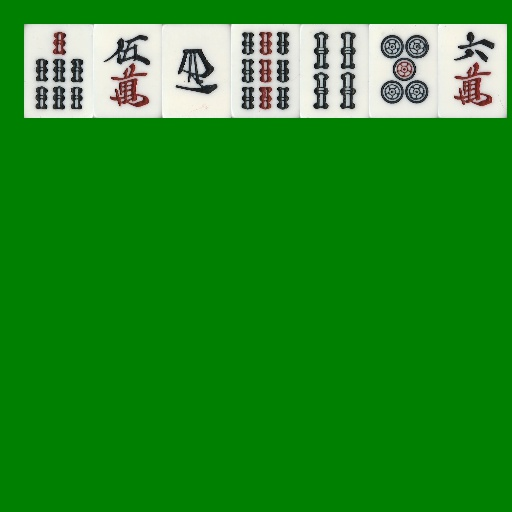4s: (300, 24, 369, 118)
5m: (93, 24, 162, 118)
5p: (369, 24, 438, 118)
6m: (438, 24, 507, 118)
7s: (24, 24, 93, 118)
9s: (231, 24, 300, 118)
west: (162, 24, 231, 118)
